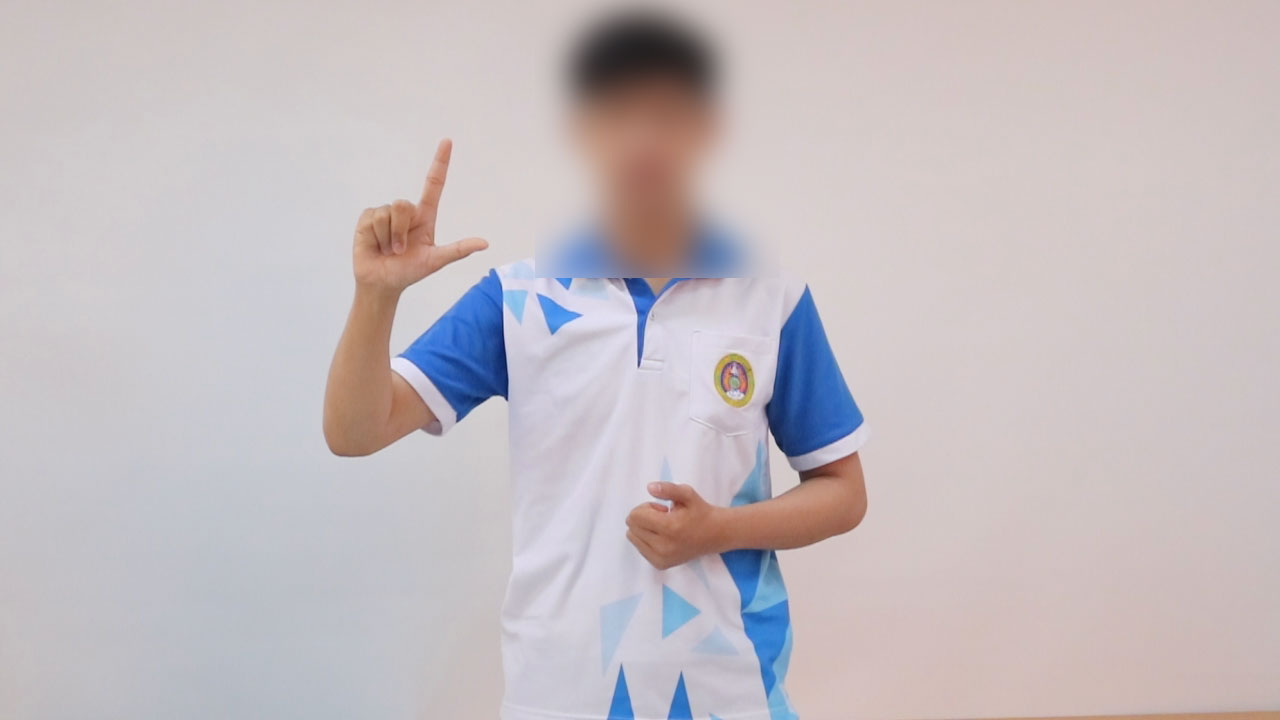lor: (348, 120, 511, 326)
